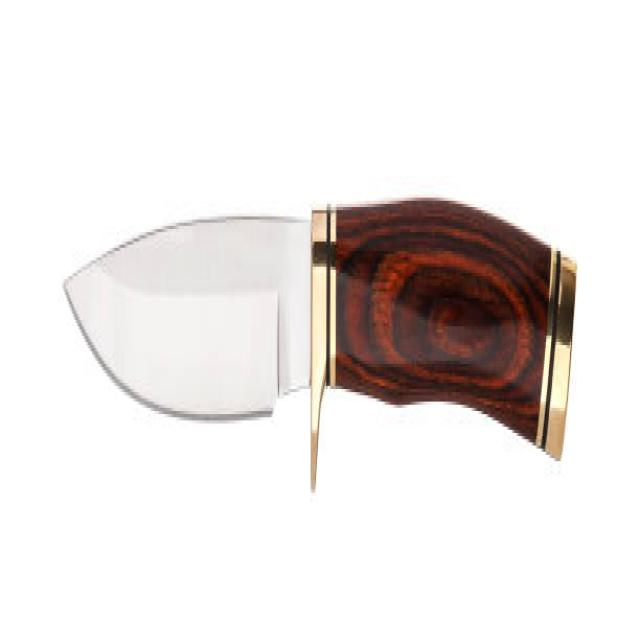knife: (59, 188, 582, 491)
